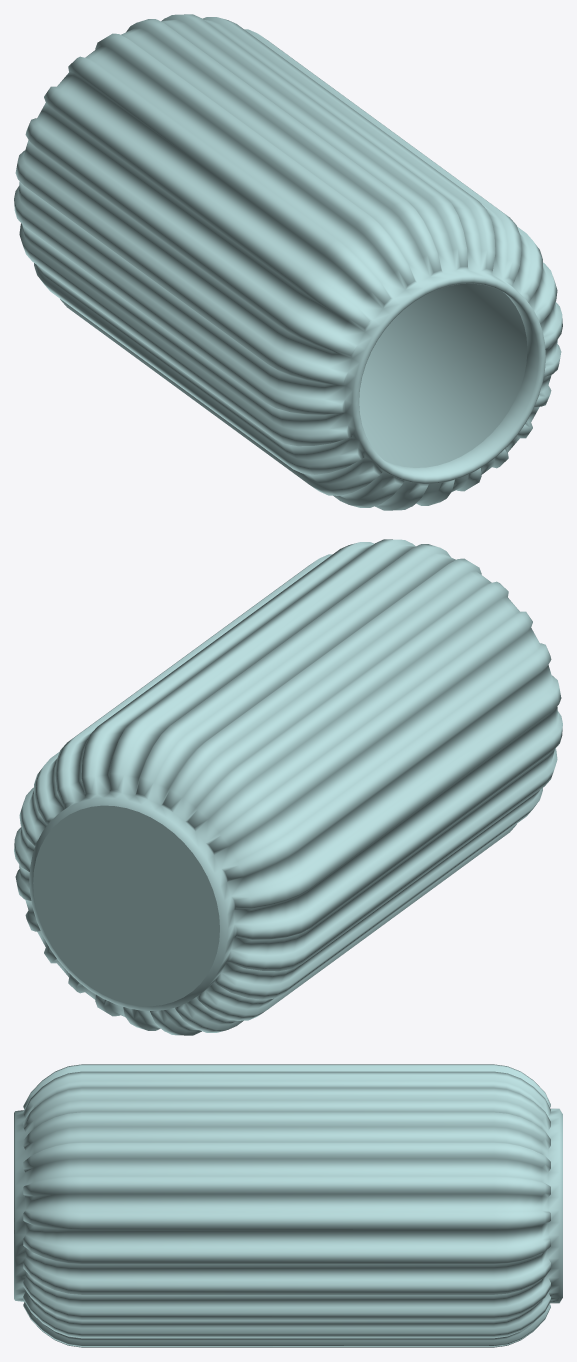
File: MeshRobothorVaseStilren_0.obj
3 views of the same model, one above another, from view 1: azimuth 30°, elevation 25°; view 2: azimuth 150°, elevation 25°; view 3: azimuth 270°, elevation 25° (orthographic). The views are drawn at different scales.
Visible parts, largest first — view 1: RobothorVaseStilren; view 2: RobothorVaseStilren; view 3: RobothorVaseStilren.
Boxes of the visible parts, box(x1,y1,x2,y2) form: RobothorVaseStilren: box(14, 14, 562, 510); RobothorVaseStilren: box(14, 539, 562, 1035); RobothorVaseStilren: box(14, 1064, 562, 1347).
Bounding box in the file's own units: 0.1149 × 0.1149 × 0.2223.
